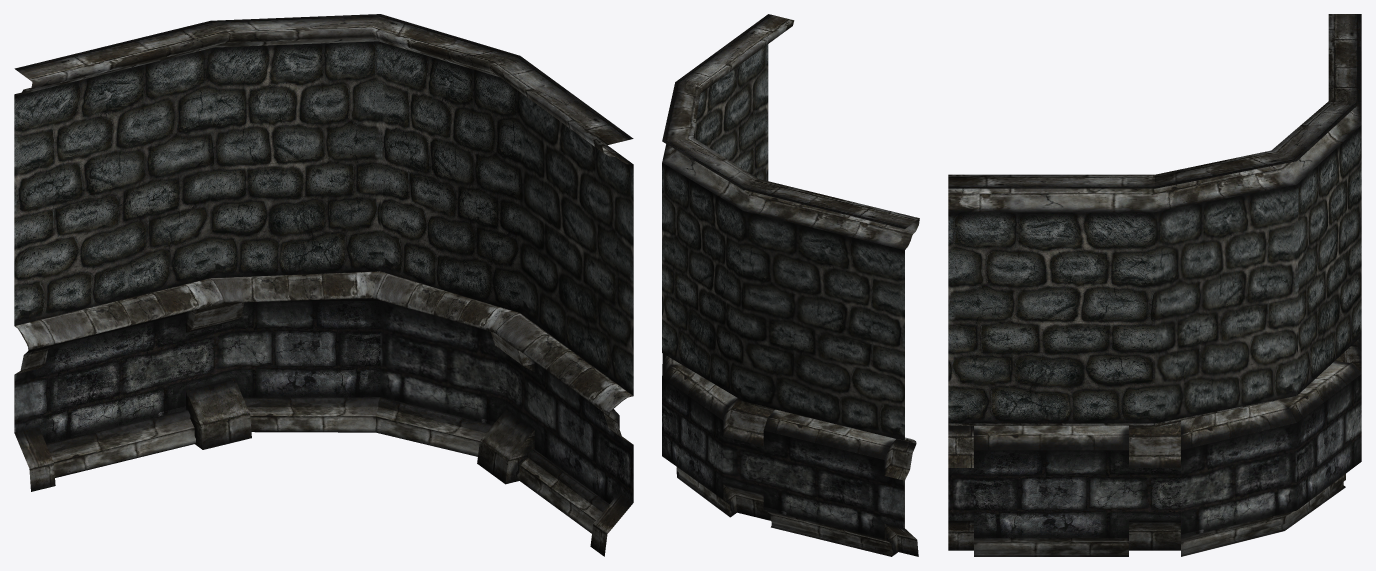
Rendered from corner_concave_round.dae.
3 renders of one model, left to right at view 1: azimuth 30°, elevation 25°; view 2: azimuth 150°, elevation 25°; view 3: azimuth 270°, elevation 25°, orthographic. The views are drawn at different scales.
Parts seen in each view (by area): view 1: polySurface113; view 2: polySurface113; view 3: polySurface113.
Part boxes in pixels (x1=…): polySurface113: x1=14, y1=14, x2=633, y2=556; polySurface113: x1=662, y1=14, x2=919, y2=556; polySurface113: x1=948, y1=14, x2=1361, y2=556.
Size of what is drawn, in the model's own units: 4 by 4 by 4.
